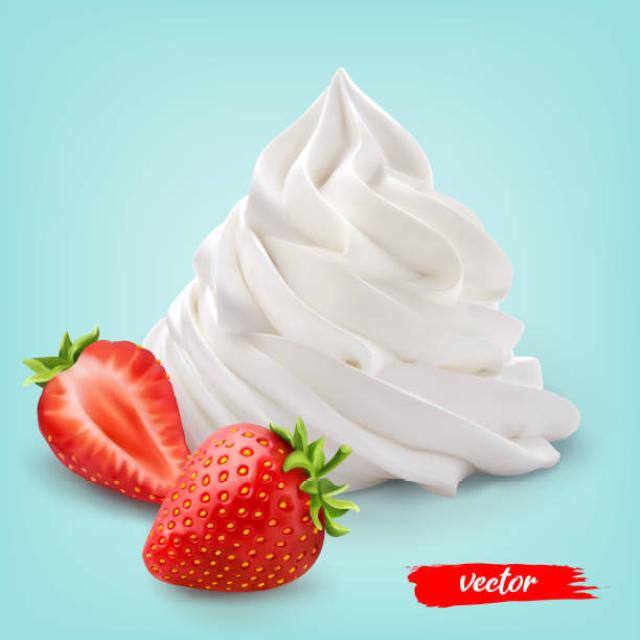Healthy Fruit: (142, 423, 326, 592), (37, 338, 194, 508)
